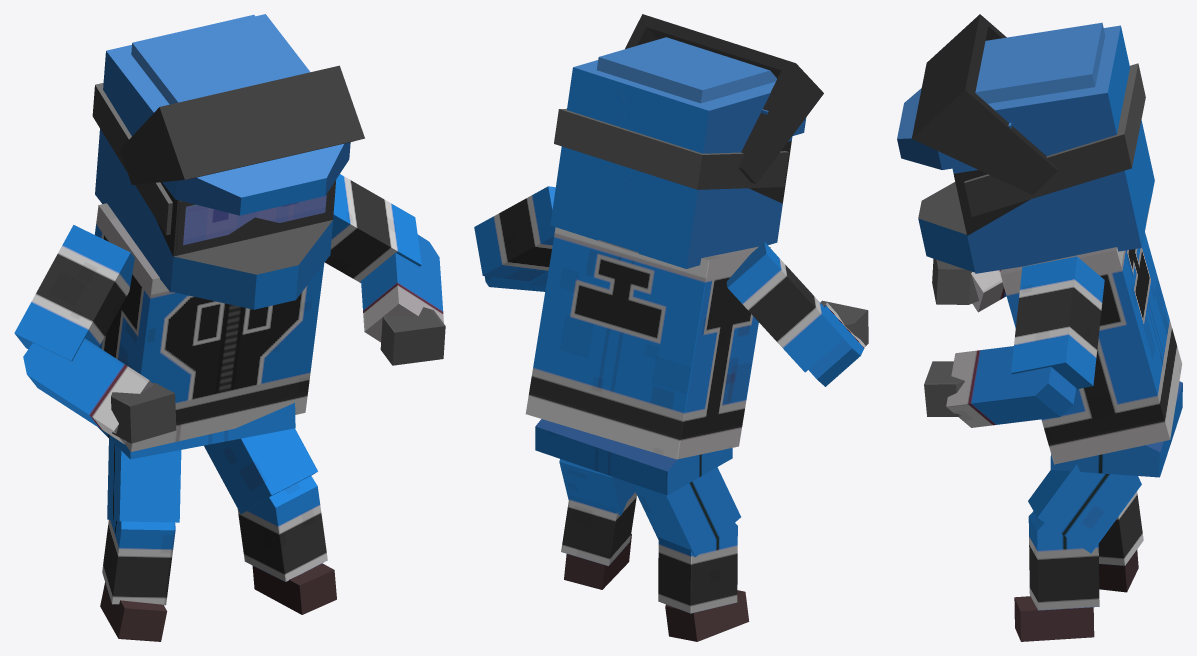
File: DirtBike.fbx
The picture shows the model from 3 angles, left to right: view 1: azimuth 30°, elevation 25°; view 2: azimuth 150°, elevation 25°; view 3: azimuth 270°, elevation 25°; orthographic projection. The views are drawn at different scales.
Visible parts, largest first — view 1: Motorcross_Helmet, Body, Racing_Helmet_Open, UpperArm_Right, LowerLeg_Left, UpperArm_Left, LowerArm_Right, UpperLeg_Left, LowerLeg_Right, UpperLeg_Right, LowerArm_Left, Hand_Left (+5 smaller); view 2: Body, Motorcross_Helmet, Racing_Helmet_Open, UpperArm_Right, LowerBody, UpperArm_Left, LowerLeg_Right, UpperLeg_Right, LowerLeg_Left, Foot_Right, UpperLeg_Left, LowerArm_Right (+4 smaller); view 3: Motorcross_Helmet, Body, Racing_Helmet, Racing_Helmet_Open, UpperArm_Left, LowerArm_Left, UpperLeg_Left, LowerLeg_Left, LowerBody, Foot_Left, LowerLeg_Right, Hand_Right (+3 smaller).
Boxes of the visible parts, bbox=[...] form: Motorcross_Helmet: bbox=[92, 14, 350, 309]; Body: bbox=[94, 203, 324, 451]; Racing_Helmet_Open: bbox=[95, 52, 364, 291]; UpperArm_Right: bbox=[14, 225, 134, 361]; LowerLeg_Left: bbox=[237, 476, 327, 581]; UpperArm_Left: bbox=[325, 174, 421, 282]; LowerArm_Right: bbox=[23, 338, 153, 444]; UpperLeg_Left: bbox=[204, 428, 317, 513]; LowerLeg_Right: bbox=[102, 520, 175, 605]; UpperLeg_Right: bbox=[107, 439, 181, 522]; LowerArm_Left: bbox=[361, 234, 443, 342]; Hand_Left: bbox=[380, 307, 445, 365]; Body: bbox=[525, 227, 770, 459]; Motorcross_Helmet: bbox=[550, 37, 806, 267]; Racing_Helmet_Open: bbox=[625, 14, 823, 268]; UpperArm_Right: bbox=[726, 242, 843, 372]; LowerBody: bbox=[535, 419, 732, 495]; UpperArm_Left: bbox=[474, 186, 555, 281]; LowerLeg_Right: bbox=[658, 523, 737, 613]; UpperLeg_Right: bbox=[631, 467, 740, 557]; LowerLeg_Left: bbox=[561, 487, 636, 565]; Foot_Right: bbox=[665, 590, 749, 641]; UpperLeg_Left: bbox=[559, 459, 633, 515]; LowerArm_Right: bbox=[808, 302, 865, 386]; Motorcross_Helmet: bbox=[897, 22, 1154, 272]; Body: bbox=[1000, 232, 1182, 464]; Racing_Helmet: bbox=[952, 94, 1154, 273]; Racing_Helmet_Open: bbox=[911, 14, 1058, 194]; UpperArm_Left: bbox=[1011, 256, 1104, 389]; LowerArm_Left: bbox=[946, 346, 1076, 427]; UpperLeg_Left: bbox=[1028, 464, 1141, 553]; LowerLeg_Left: bbox=[1028, 511, 1099, 610]; LowerBody: bbox=[1050, 381, 1182, 477]; Foot_Left: bbox=[1014, 596, 1094, 641]; LowerLeg_Right: bbox=[1098, 491, 1143, 565]; Hand_Right: bbox=[932, 258, 978, 304].
Size of the model in its own units: 213 by 291 by 134.
1 material, 1 textured.
